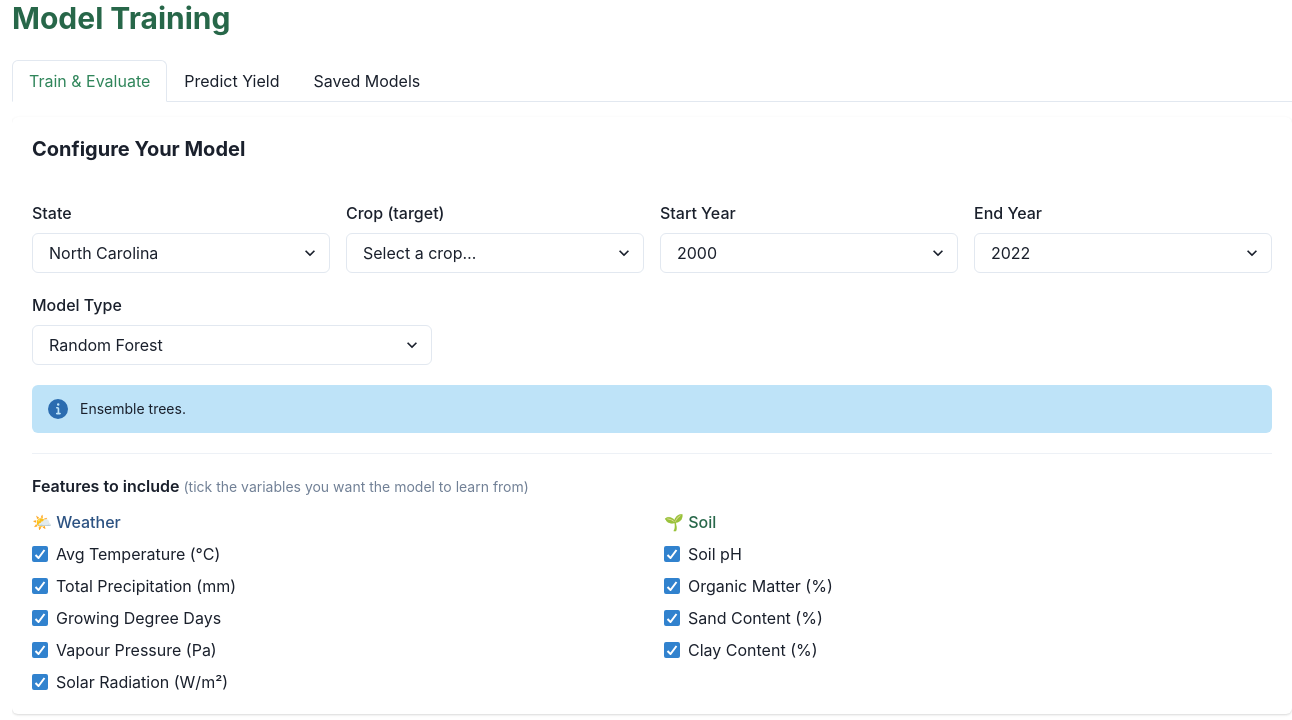
Test: Model page – structure › enables Train Model button after selecting a crop
Select "CORN" in the dropdown labelled "Crop (target)" at x=495, y=253, box [346,233,644,273]
(page scrolled)
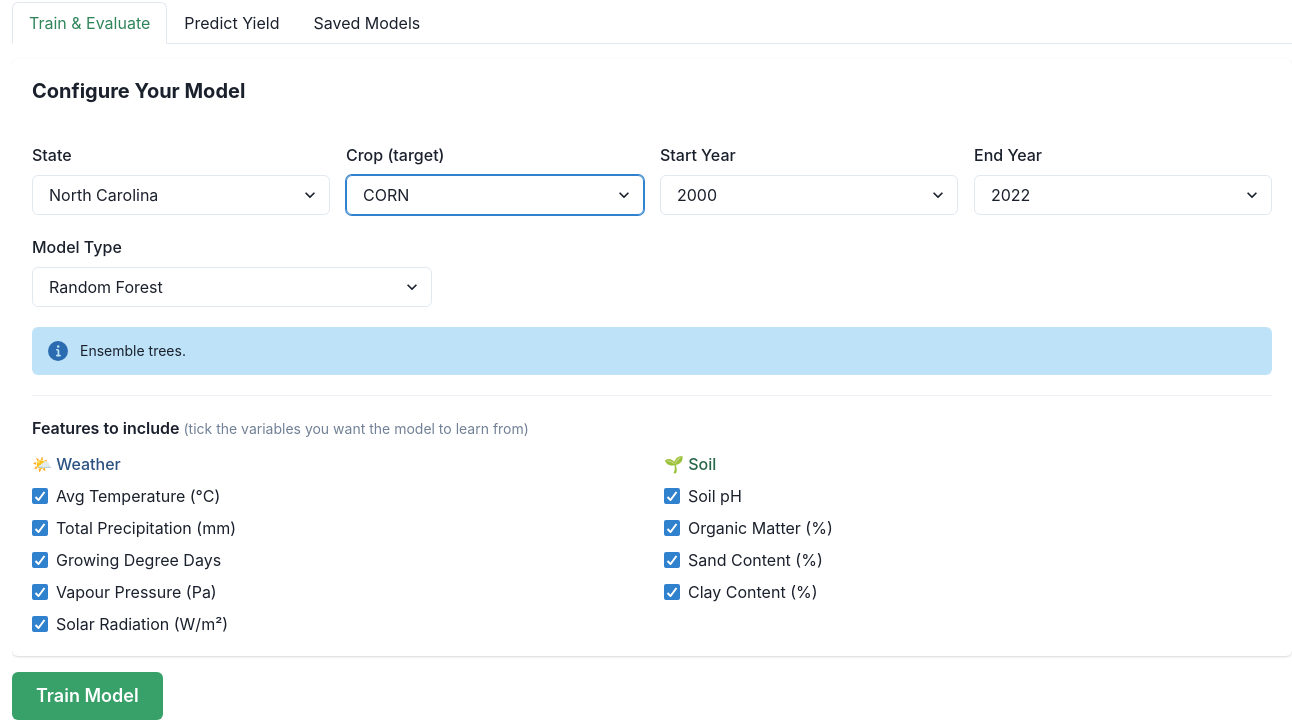
Check: the button "Train Model" is enabled, box [12,672,163,719]
